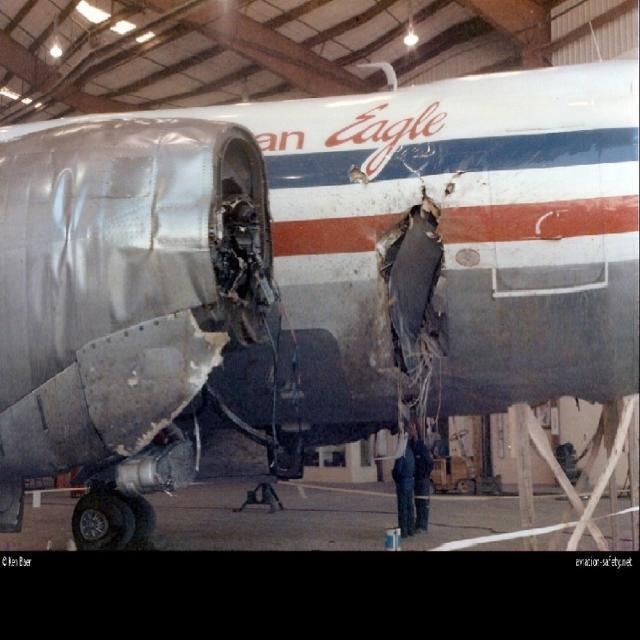dent: (40, 256, 82, 357), (105, 252, 143, 322), (51, 171, 79, 241)
